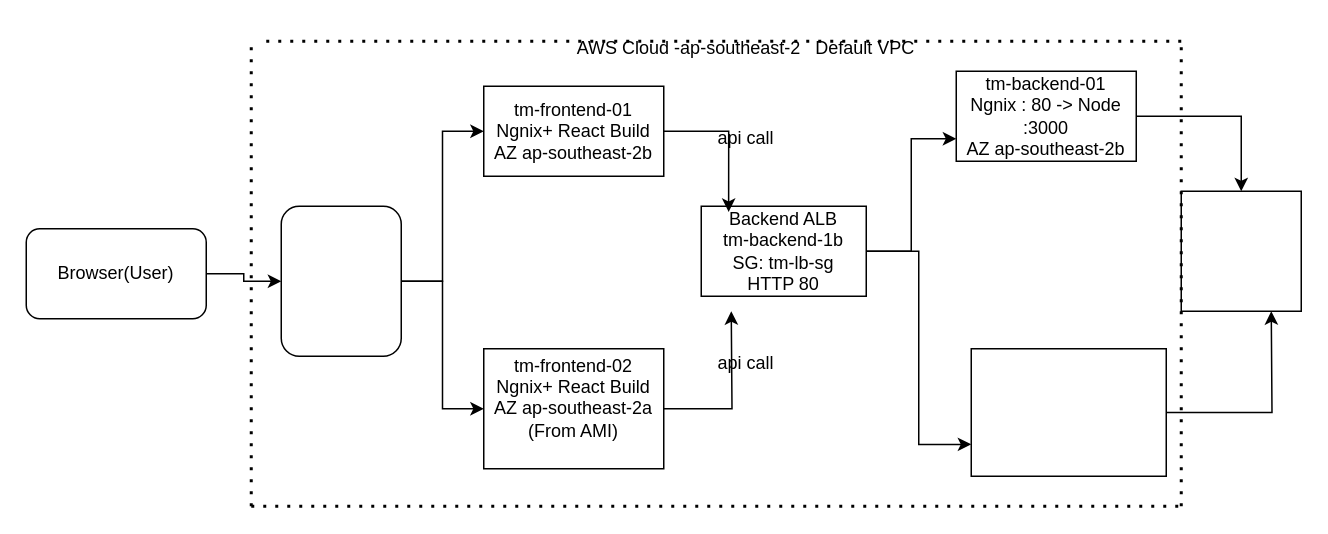
The diagram is 1328 pixels wide and 534 high, and some of its shapes have lost their labels. Here are the shapes that lost their labels. From the top down, the centre of each, then its label:
pixel 1240 250: Mongo DB Atlas tm-cluster DB: travelmemory
pixel 340 280: Frontend ALB tm-frontend-lb SG: lm-lb-sg Http 80
pixel 1068 411: tm-backend-02 Ngnix : 80 -> Node :3000 AZ ap-southeast-2a (FROM AMI)
